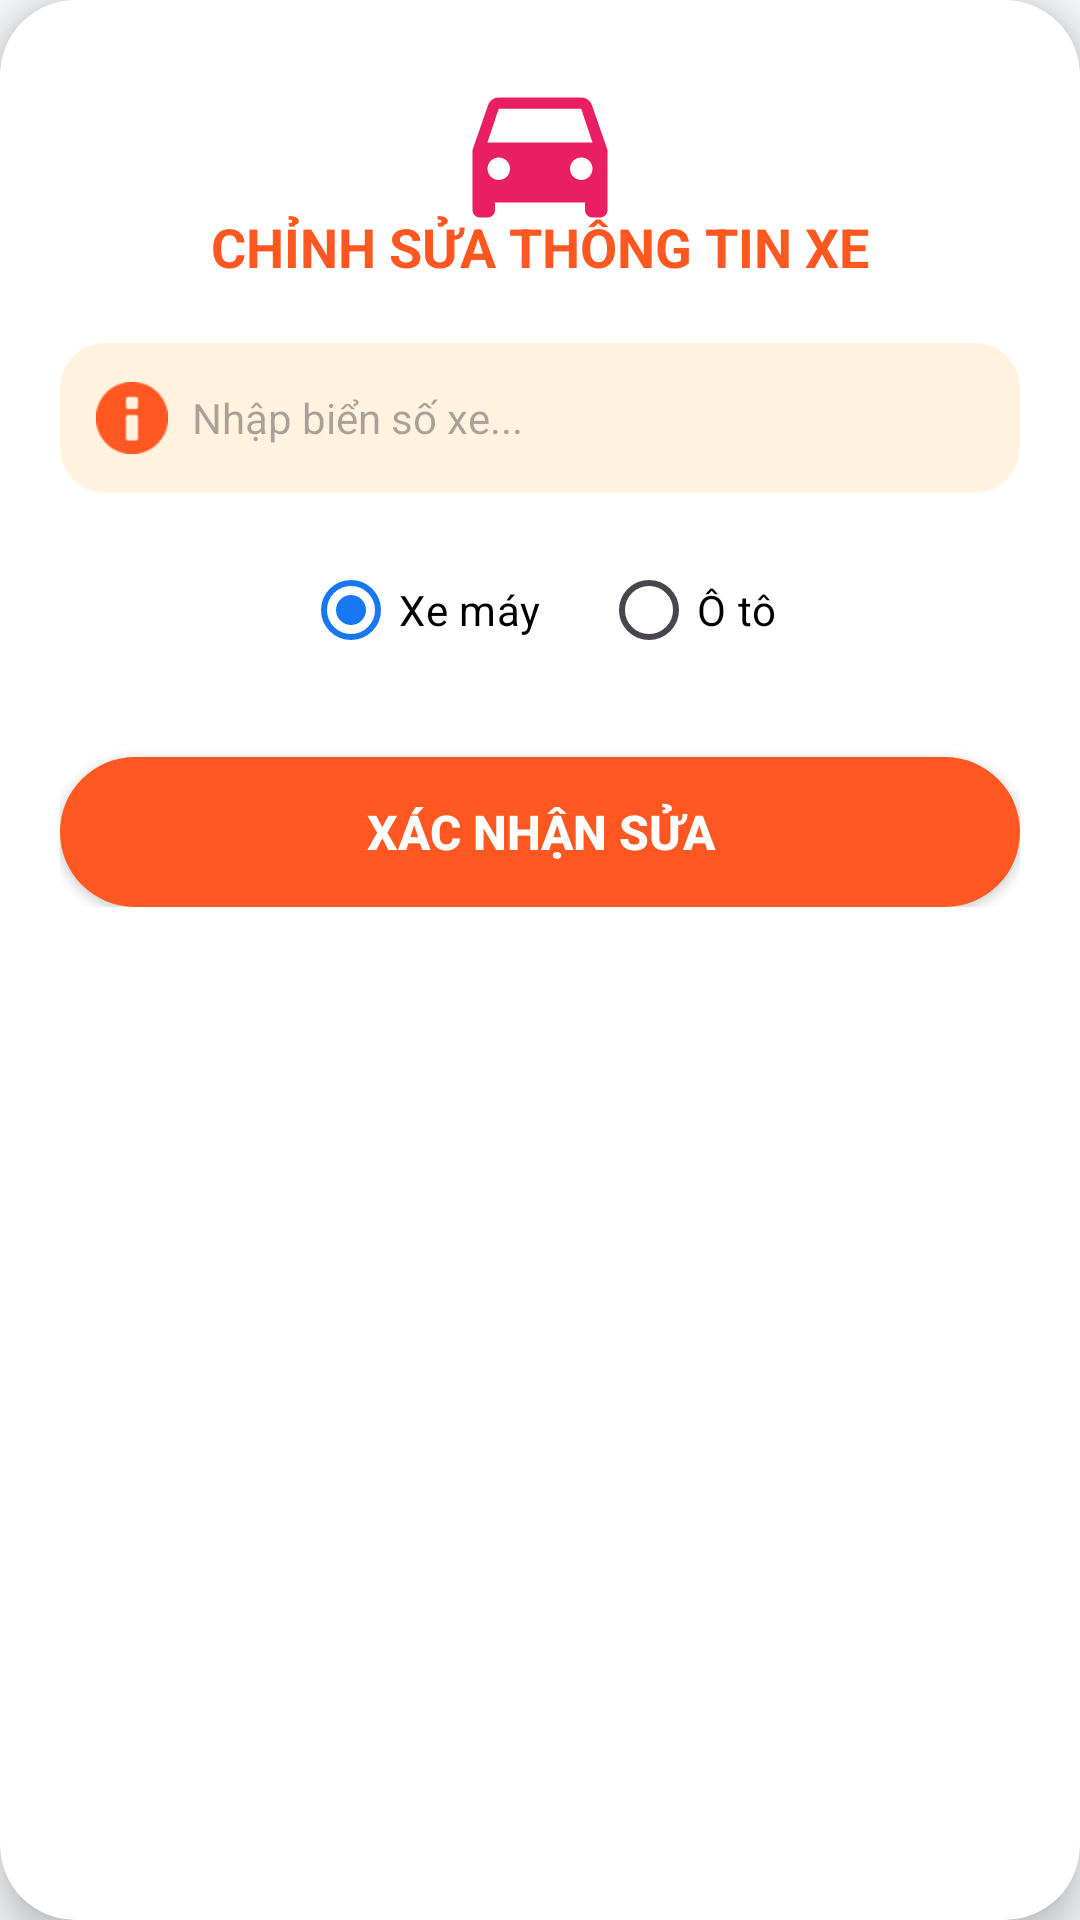

Named icons in this screenshot (1080*1920) and their bounding boxes, (x1=x1, y1=y1, x2=x2, y2=y2):
car: (x1=437, y1=97, x2=609, y2=228)
info: (x1=96, y1=382, x2=168, y2=454)
